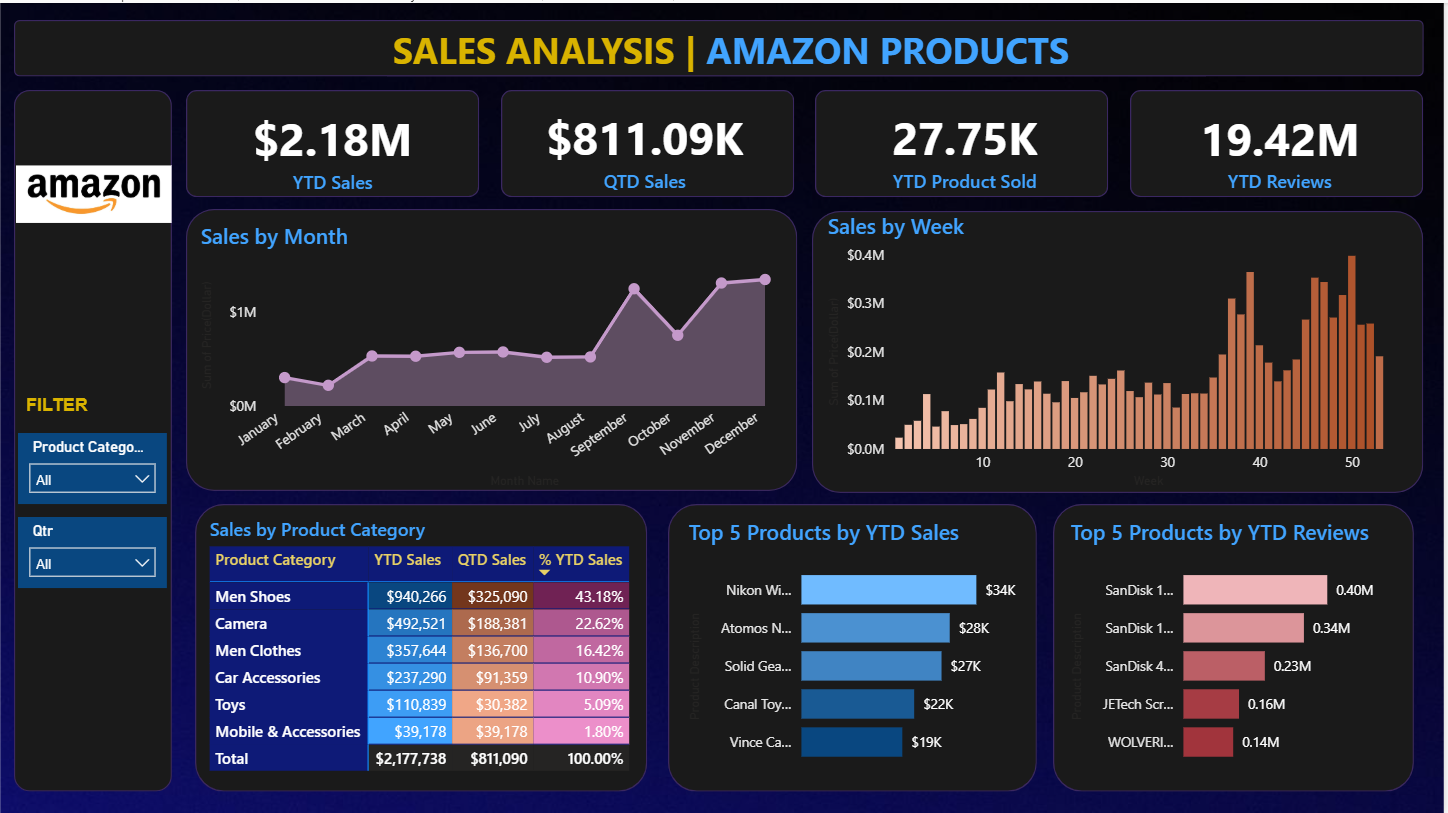

The dashboard page shown, as its layout file describes it:
{"tool":"powerbi","page":{"name":"Page 1","canvas":[1280,720],"ordinal":0},"visuals":[{"type":"shape","box":[12,77,140,622],"z":0},{"type":"shape","box":[12,15,1250,50],"z":1000},{"type":"textbox","box":[343,14,622,64],"z":2000},{"type":"shape","box":[444,77,260,95],"z":3000},{"type":"shape","box":[165,77,260,95],"z":4000},{"type":"cardVisual","fields":{"Data":["Amazon_Data.YTD Sales"]},"box":[165,78,260,105],"z":5000},{"type":"cardVisual","fields":{"Data":["Amazon_Data.QTD Sales"]},"box":[444,77,255,106],"z":6000},{"type":"shape","box":[723,77,260,95],"z":7000},{"type":"shape","box":[1002,77,260,95],"z":8000},{"type":"cardVisual","fields":{"Data":["Amazon_Data.YTD Product Sold"]},"box":[728,77,255,106],"z":9000},{"type":"cardVisual","fields":{"Data":["Amazon_Data.YTD Reviews"]},"box":[1007,76,255,107],"z":10000},{"type":"shape","box":[165,183,542,250],"z":11000},{"type":"areaChart","title":"Sales by Month ","fields":{"Category":["Date Table.Month Name"],"Y":["Sum(Amazon_Data.Price(Dollar))"]},"box":[173,193,526,241],"z":12000},{"type":"shape","box":[720,184,542,250],"z":13000},{"type":"shape","box":[173,444,401,255],"z":14000},{"type":"columnChart","title":"Sales by Week","fields":{"Category":["Date Table.Week"],"Y":["Sum(Amazon_Data.Price(Dollar))"]},"box":[729,184,523,250],"z":15000},{"type":"pivotTable","title":"Sales by Product Category","fields":{"Rows":["Amazon_Data.Product Category"],"Values":["Amazon_Data.YTD Sales1","Amazon_Data.QTD Sales","Amazon_Data.YTD Sales"]},"box":[181,456,391,232],"z":16000},{"type":"shape","box":[592,444,327,255],"z":17000},{"type":"shape","box":[934,444,320,255],"z":18000},{"type":"clusteredBarChart","title":"Top 5 Products by YTD Sales","fields":{"Category":["Amazon_Data.Product Description"],"Y":["Amazon_Data.YTD Sales"]},"box":[606,456,300,232],"z":19000},{"type":"clusteredBarChart","title":"Top 5 Products by YTD Reviews","fields":{"Category":["Amazon_Data.Product Description"],"Y":["Amazon_Data.YTD Reviews"]},"box":[944,456,300,232],"z":20000},{"type":"slicer","fields":{"Values":["Amazon_Data.Product Category"]},"box":[16,381,132,63],"z":21000},{"type":"slicer","fields":{"Values":["Date Table.Qtr"]},"box":[16,456,132,63],"z":22000},{"type":"image","box":[14,125,138,89],"z":23000},{"type":"textbox","box":[0,322,92,59],"z":24000}]}

Visuals, with their boxes in screenshot pixels (x1, y1, x2, y2), scaled from the page's 1280x720 canvas onto the 1448x813 screenshot:
shape: (14,87,172,789)
shape: (14,17,1428,73)
textbox: (388,16,1092,88)
shape: (502,87,796,194)
shape: (187,87,481,194)
cardVisual - Amazon_Data.YTD Sales: (187,88,481,207)
cardVisual - Amazon_Data.QTD Sales: (502,87,791,207)
shape: (818,87,1112,194)
shape: (1134,87,1428,194)
cardVisual - Amazon_Data.YTD Product Sold: (824,87,1112,207)
cardVisual - Amazon_Data.YTD Reviews: (1139,86,1428,207)
shape: (187,207,800,489)
"Sales by Month " areaChart: (196,218,791,490)
shape: (815,208,1428,490)
shape: (196,501,649,789)
"Sales by Week" columnChart: (825,208,1416,490)
"Sales by Product Category" pivotTable: (205,515,647,777)
shape: (670,501,1040,789)
shape: (1057,501,1419,789)
"Top 5 Products by YTD Sales" clusteredBarChart: (686,515,1025,777)
"Top 5 Products by YTD Reviews" clusteredBarChart: (1068,515,1407,777)
slicer - Amazon_Data.Product Category: (18,430,167,501)
slicer - Date Table.Qtr: (18,515,167,586)
image: (16,141,172,242)
textbox: (0,364,104,430)
